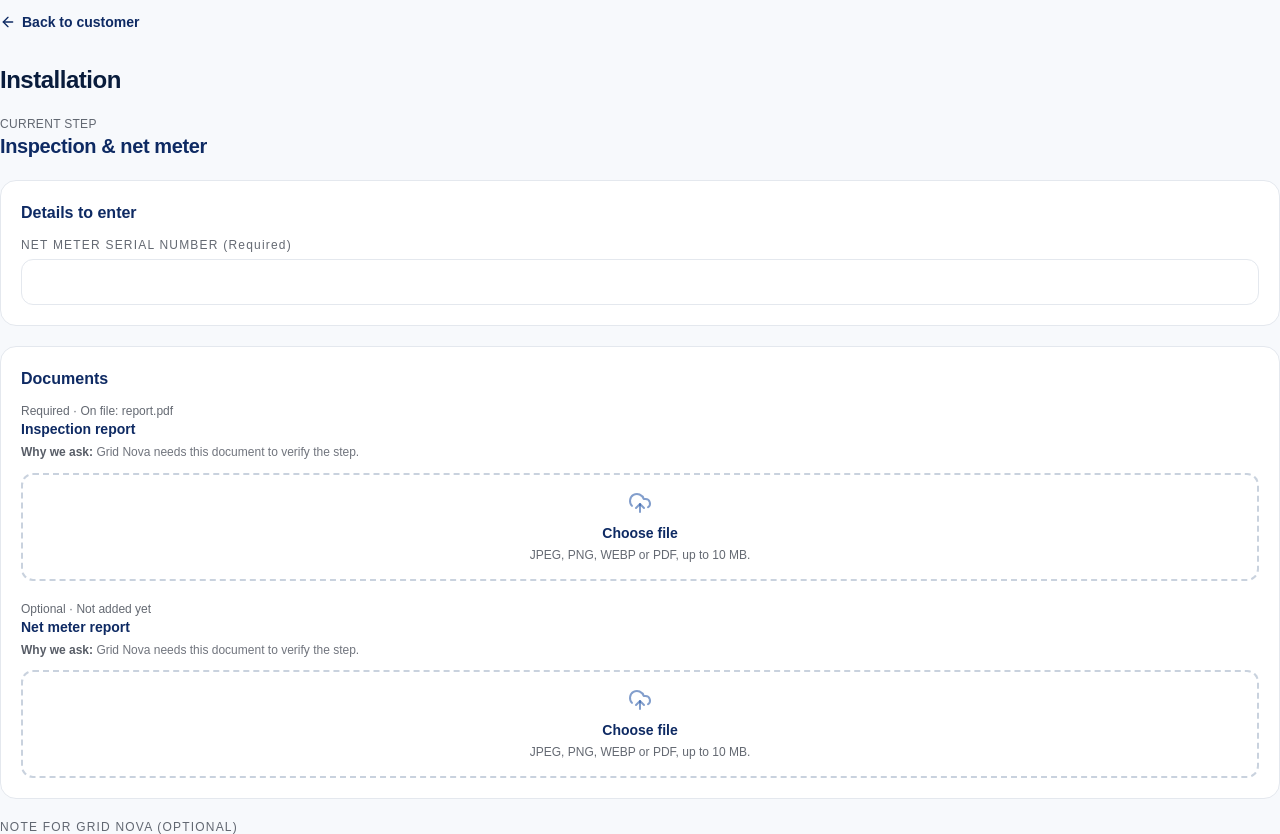
Scenario: ExecutionChecklist — submit, pending, rejected, resubmit › submits the typed references once the required document is on file, then shows the confirmation
The width and height of the screenshot is (1280, 834).
Type "  NM-100 " into the field labelled "Net meter serial number (Required)" at coordinates (640, 282), box [21,259,1259,305]
(page scrolled)
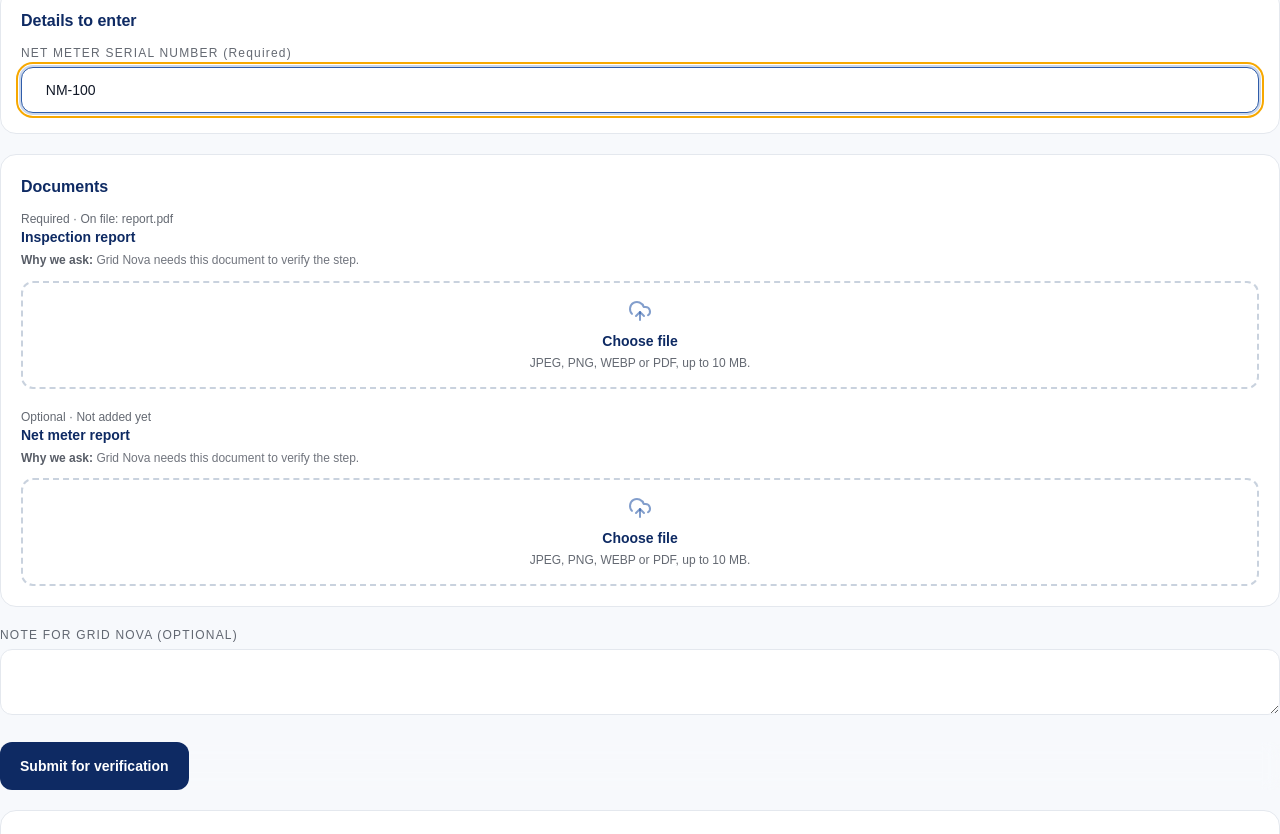
Click the button "Submit for verification" at coordinates (94, 766), box [0,742,189,790]
(page scrolled)
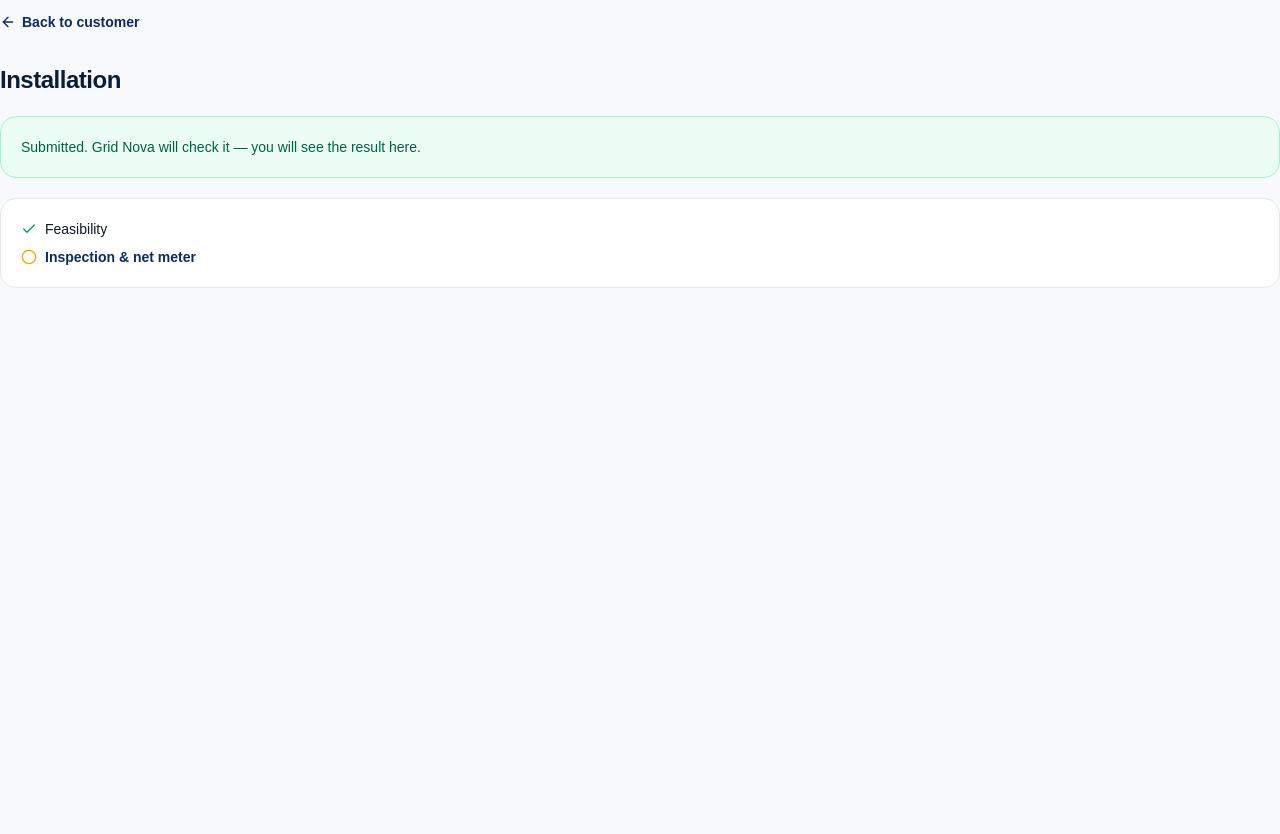
Expected: the text "Submitted. Grid Nova will check it — you will see the result here." is shown, [21,139,421,155]
